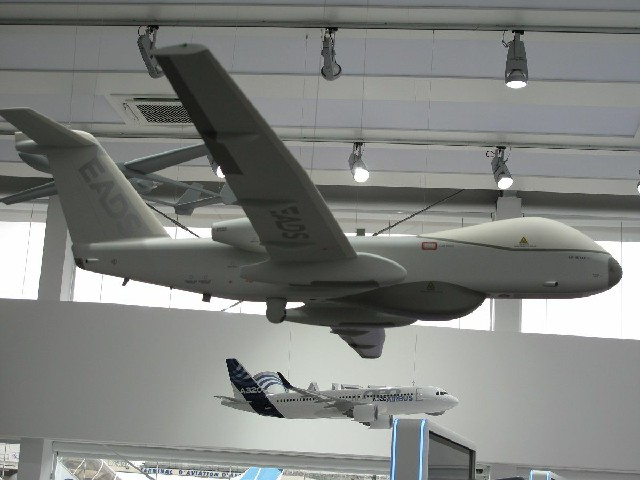maybay_khongnguoilai: (19, 46, 621, 356)
